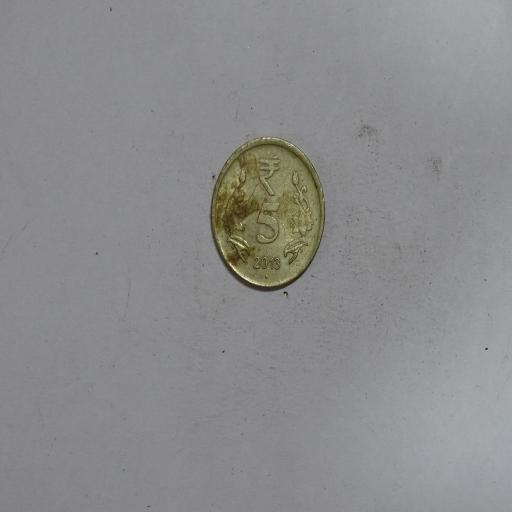rupee5: (209, 137, 326, 293)
